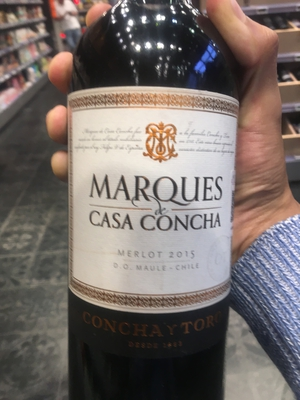marques de casa concha merlot: (67, 18, 242, 398)
